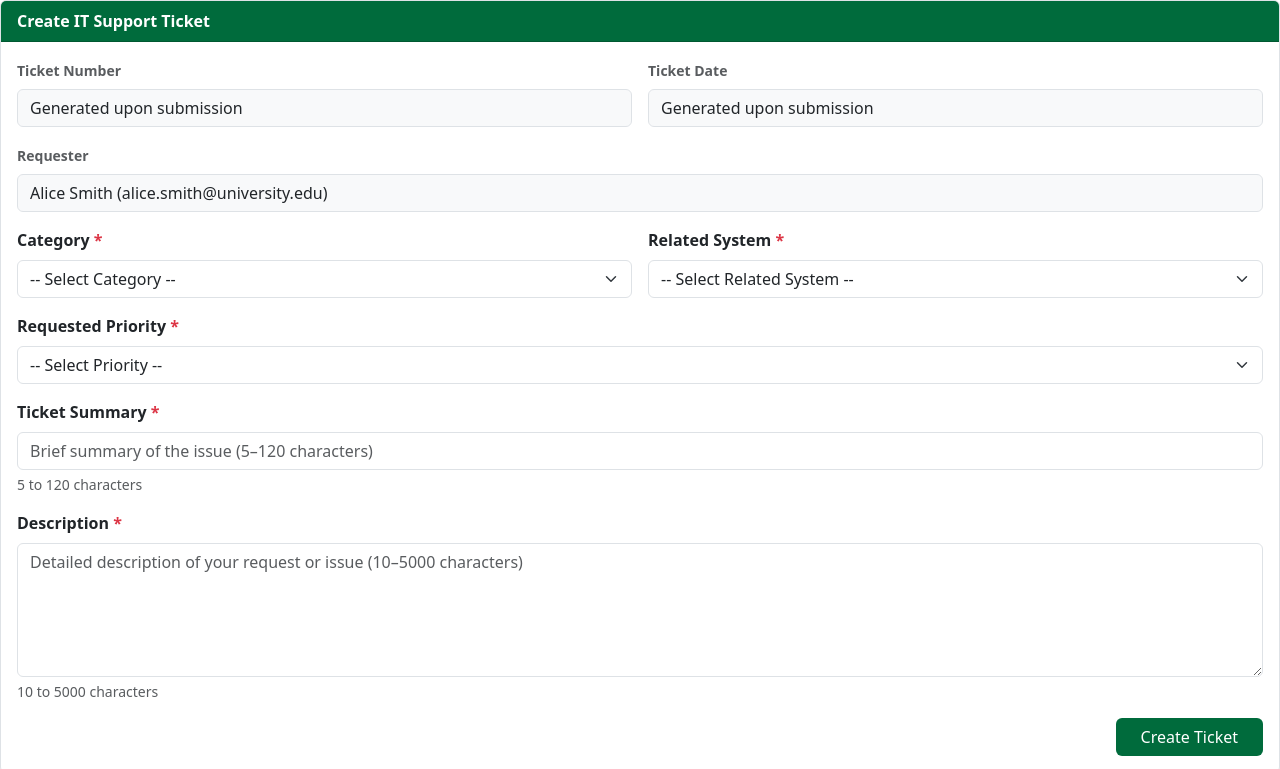
Test: CreateTicketForm Component (Issue #13) › AC-07: validates required fields, summary length, description length, priority selection
The width and height of the screenshot is (1280, 769).
// Submit empty form
Click the button "Create Ticket": (1189, 737) [1116,718,1263,756]
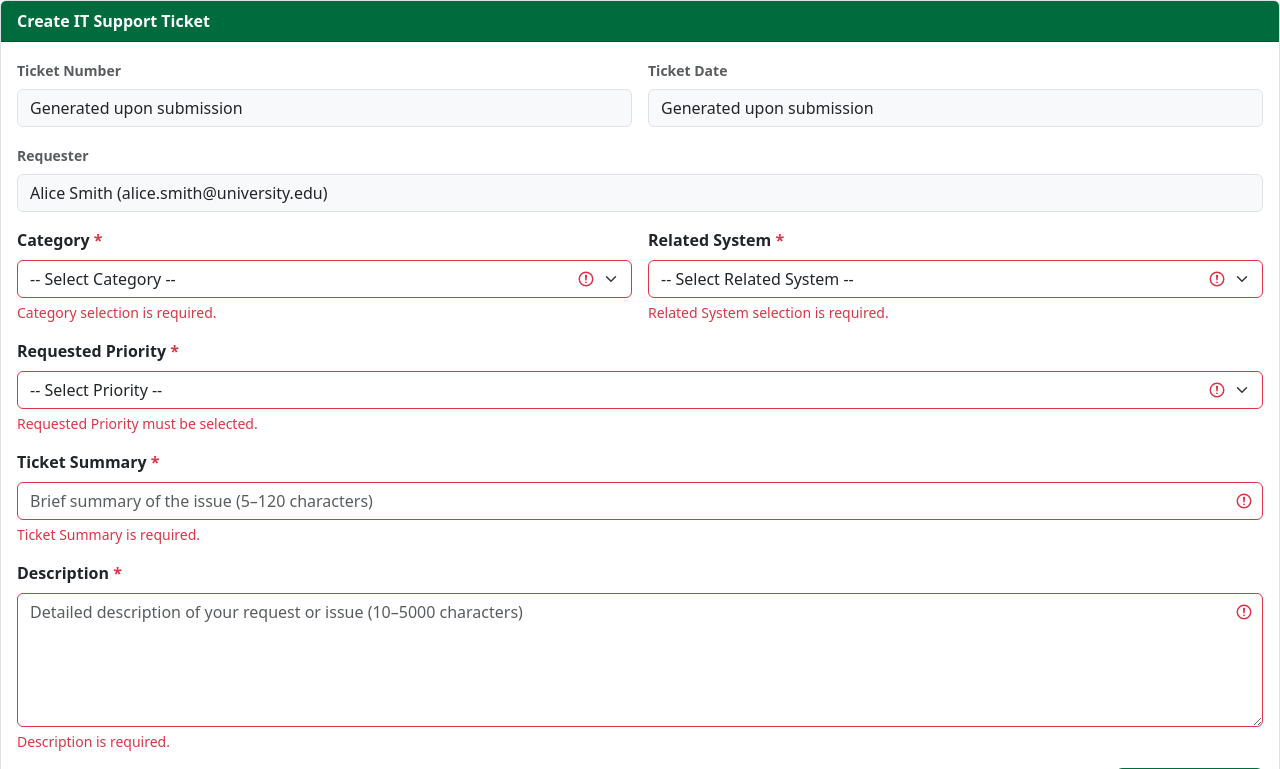
Check: the text "Category selection is required." is shown, box [17,303,216,322]
Check: the text "Related System selection is required." is shown, box [648,303,889,322]
Check: the text "Ticket Summary is required." is shown, box [17,525,200,544]
// Enter short summary and description
In the field labelled "Ticket Summary *": (640, 501) [17,482,1263,520], type "abc"
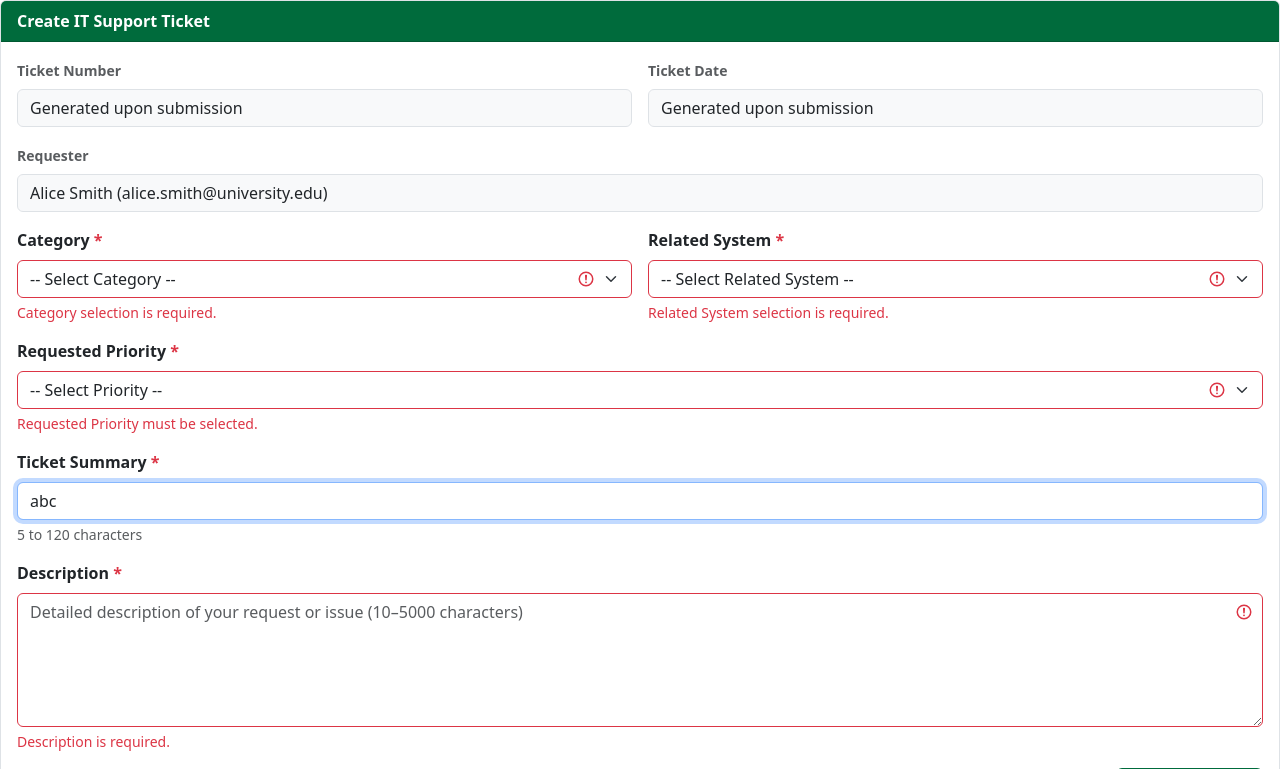
In the text box labelled "Description *": (640, 660) [17,593,1263,727], type "short"
(page scrolled)
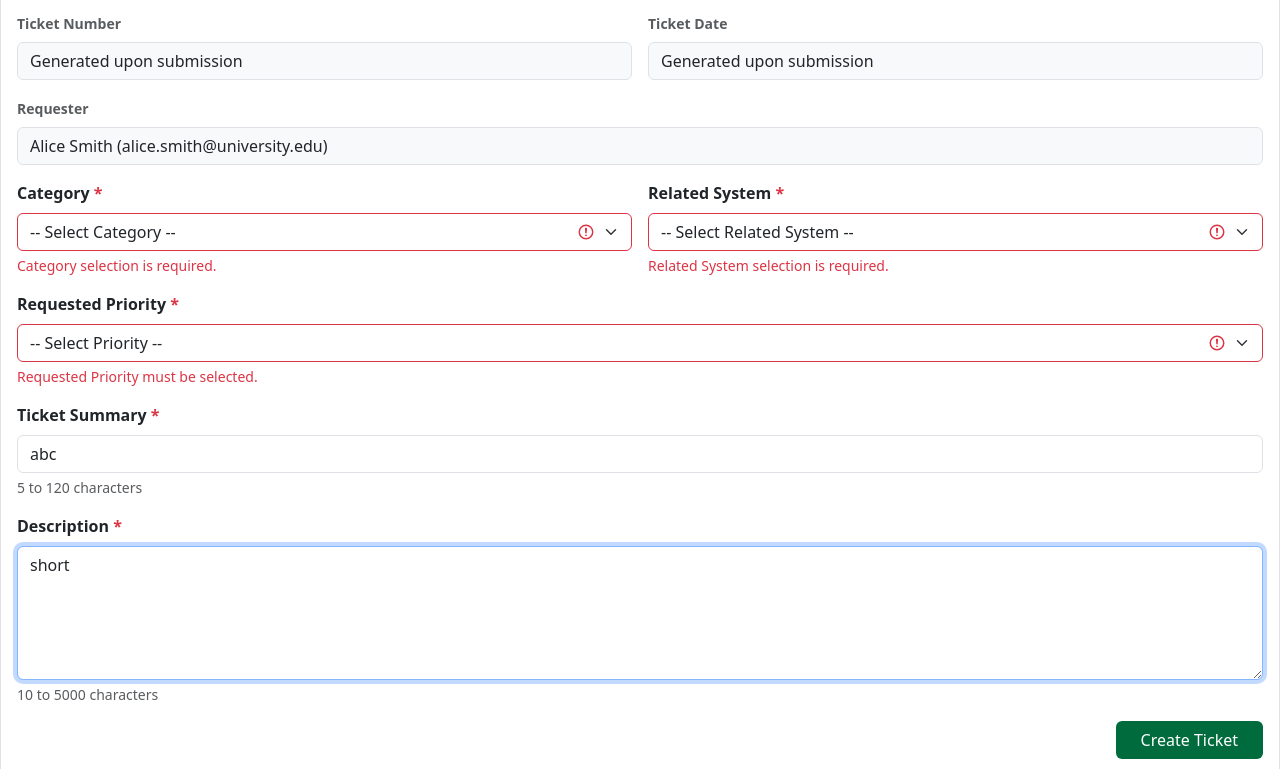
Click the button "Create Ticket": (1189, 740) [1116,721,1263,759]
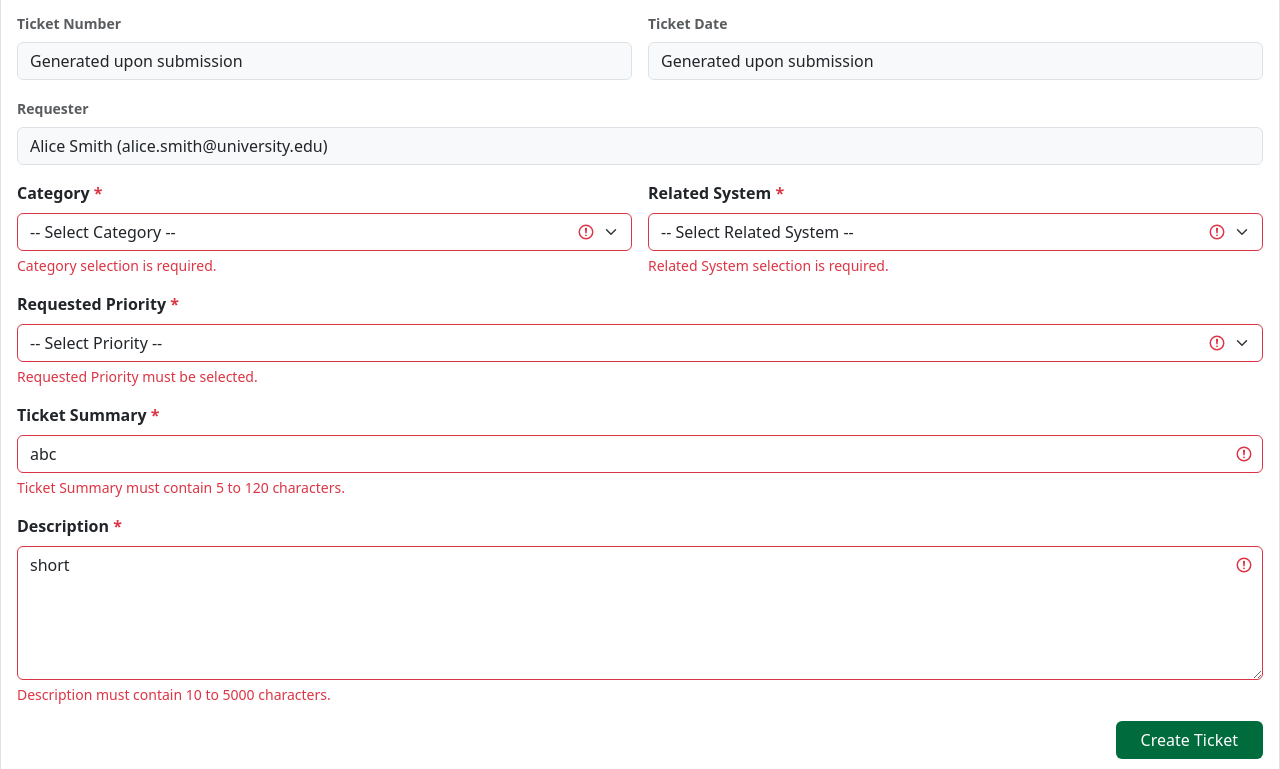
Check: the text "Ticket Summary must contain 5 to 120 characters." is shown, box [17,478,345,497]
Check: the text "Description must contain 10 to 5000 characters." is shown, box [17,685,331,704]
